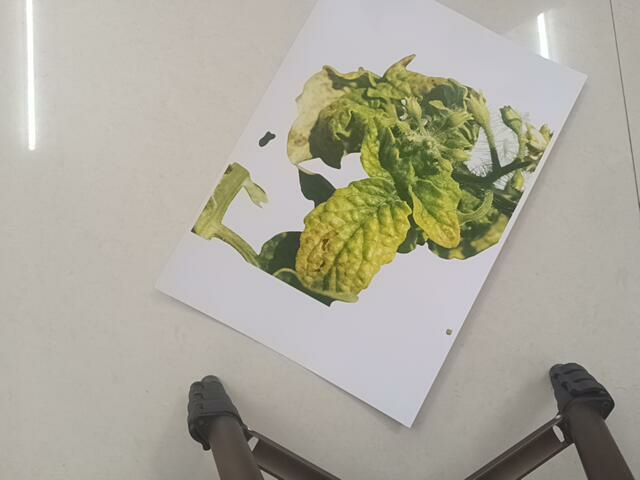Tomamto_Leaf_curl_virus: (203, 42, 530, 286)
